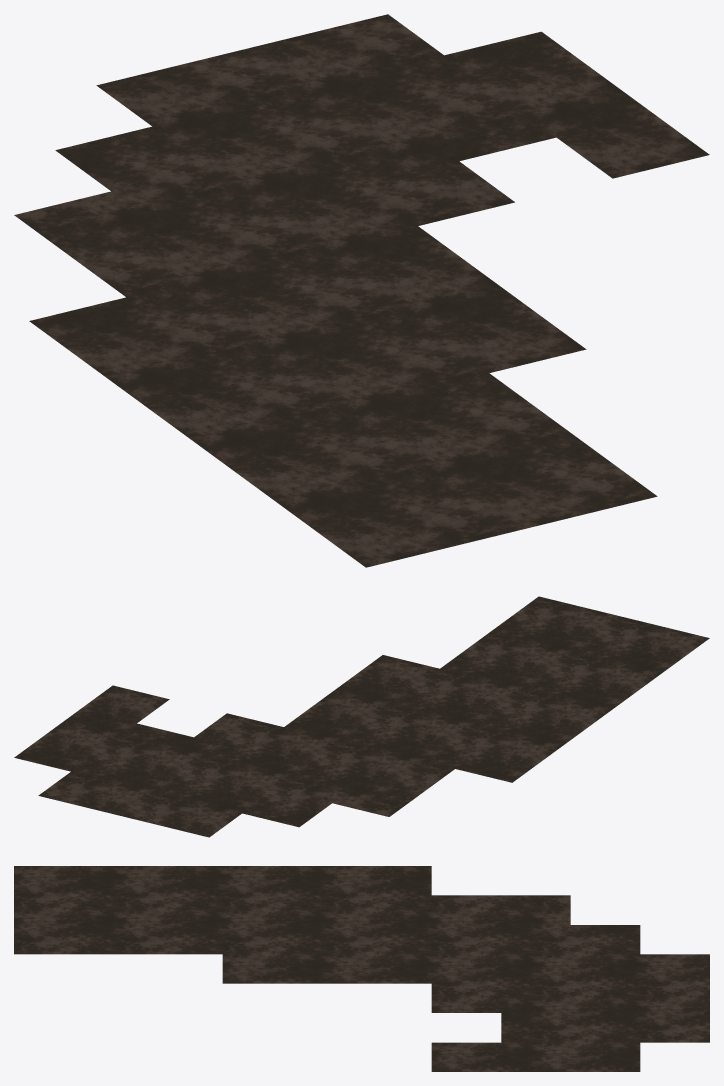
The model's file is floor_3_-6.glb.
3 renders of one model, top to bottom at view 1: azimuth 30°, elevation 25°; view 2: azimuth 150°, elevation 25°; view 3: azimuth 270°, elevation 25°, orthographic. The views are drawn at different scales.
Parts seen in each view (by area): view 1: floor_3_-6; view 2: floor_3_-6; view 3: floor_3_-6.
Boxes of the visible parts, x1,y1,x2,y2 form: floor_3_-6: [14, 14, 709, 567]; floor_3_-6: [14, 596, 709, 837]; floor_3_-6: [14, 866, 709, 1071].
Bounding box in the file's own units: 28 × 0 × 40.
Materials: 1 (1 with a texture image).
